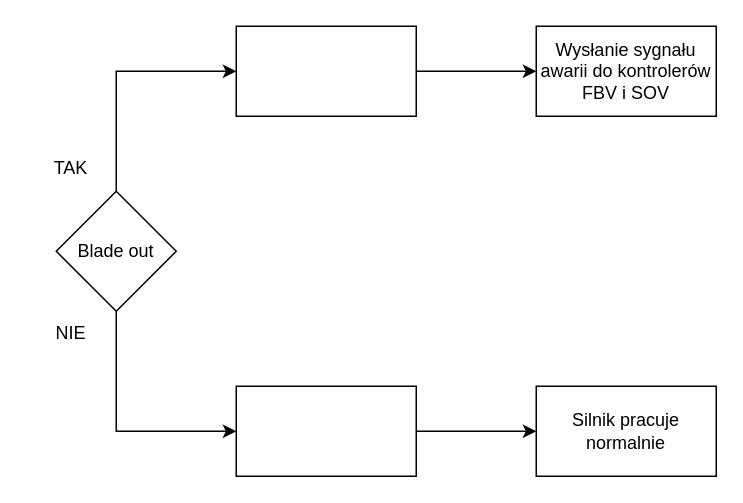
Some shapes in this 743 by 503 pixel diagram are drawn without their labels. Each missing label, with the centre of its shape:
Wibracje w normalnym zakresie pracy: the point at 325,430
Wykrycie wibracji poza zakresem przez sensor: the point at 325,70
